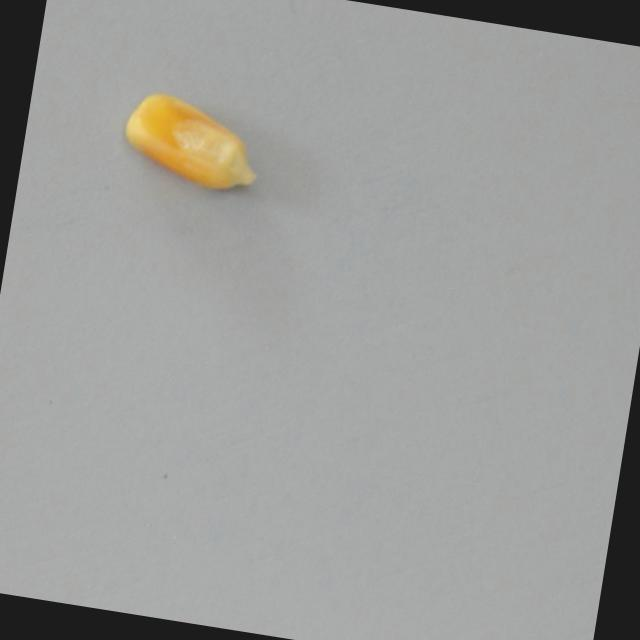entero: (115, 85, 275, 201)
